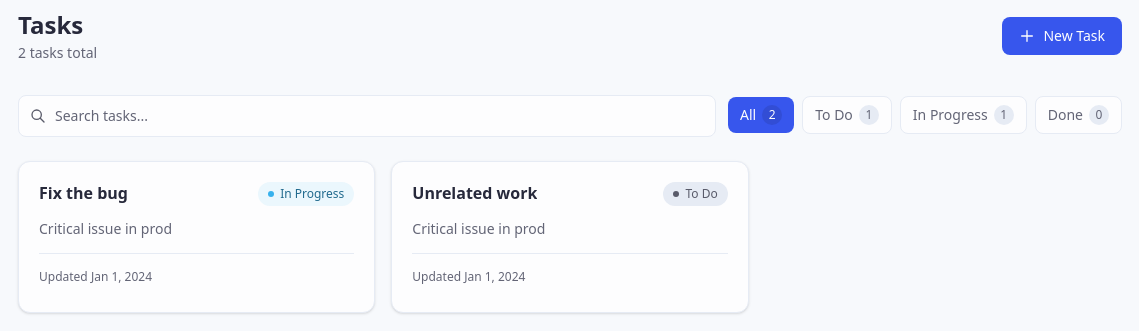
it: Dashboard › searches tasks by title
This screenshot has width=1139, height=331.
In the search field with placeholder "Search tasks...": (367, 116) [18,95,716,137], type "bug"
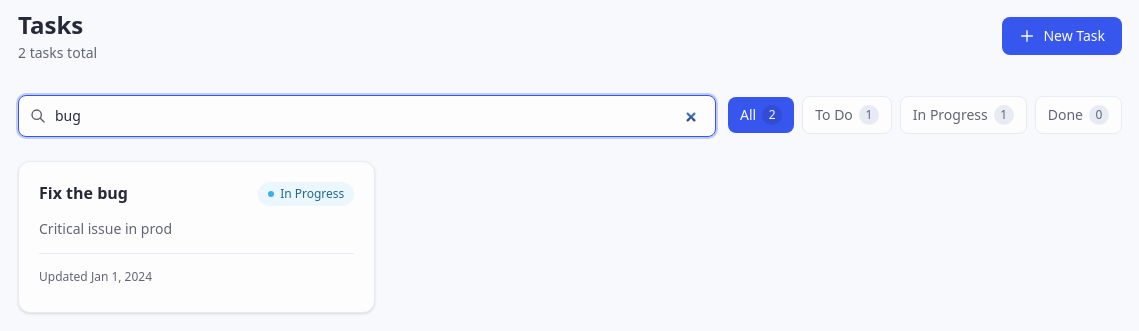
Expected: the heading "Fix the bug" is shown, [39,182,128,204]
Now the heading "Unrelated work" is gone
